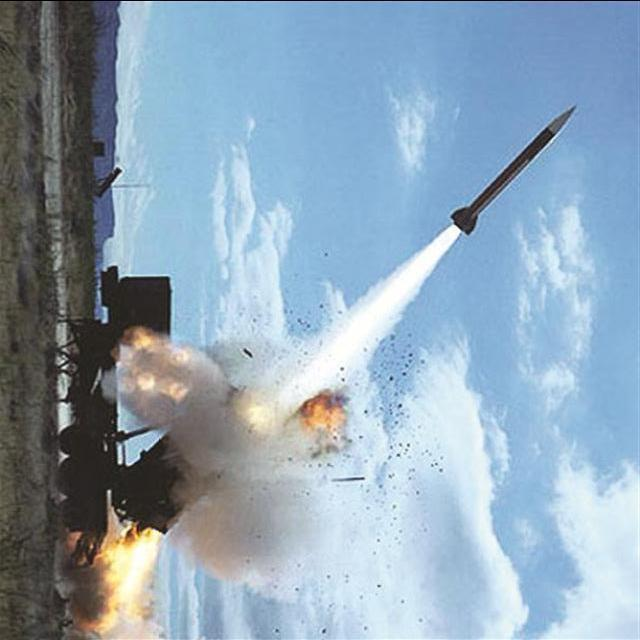missile: (452, 98, 579, 238)
